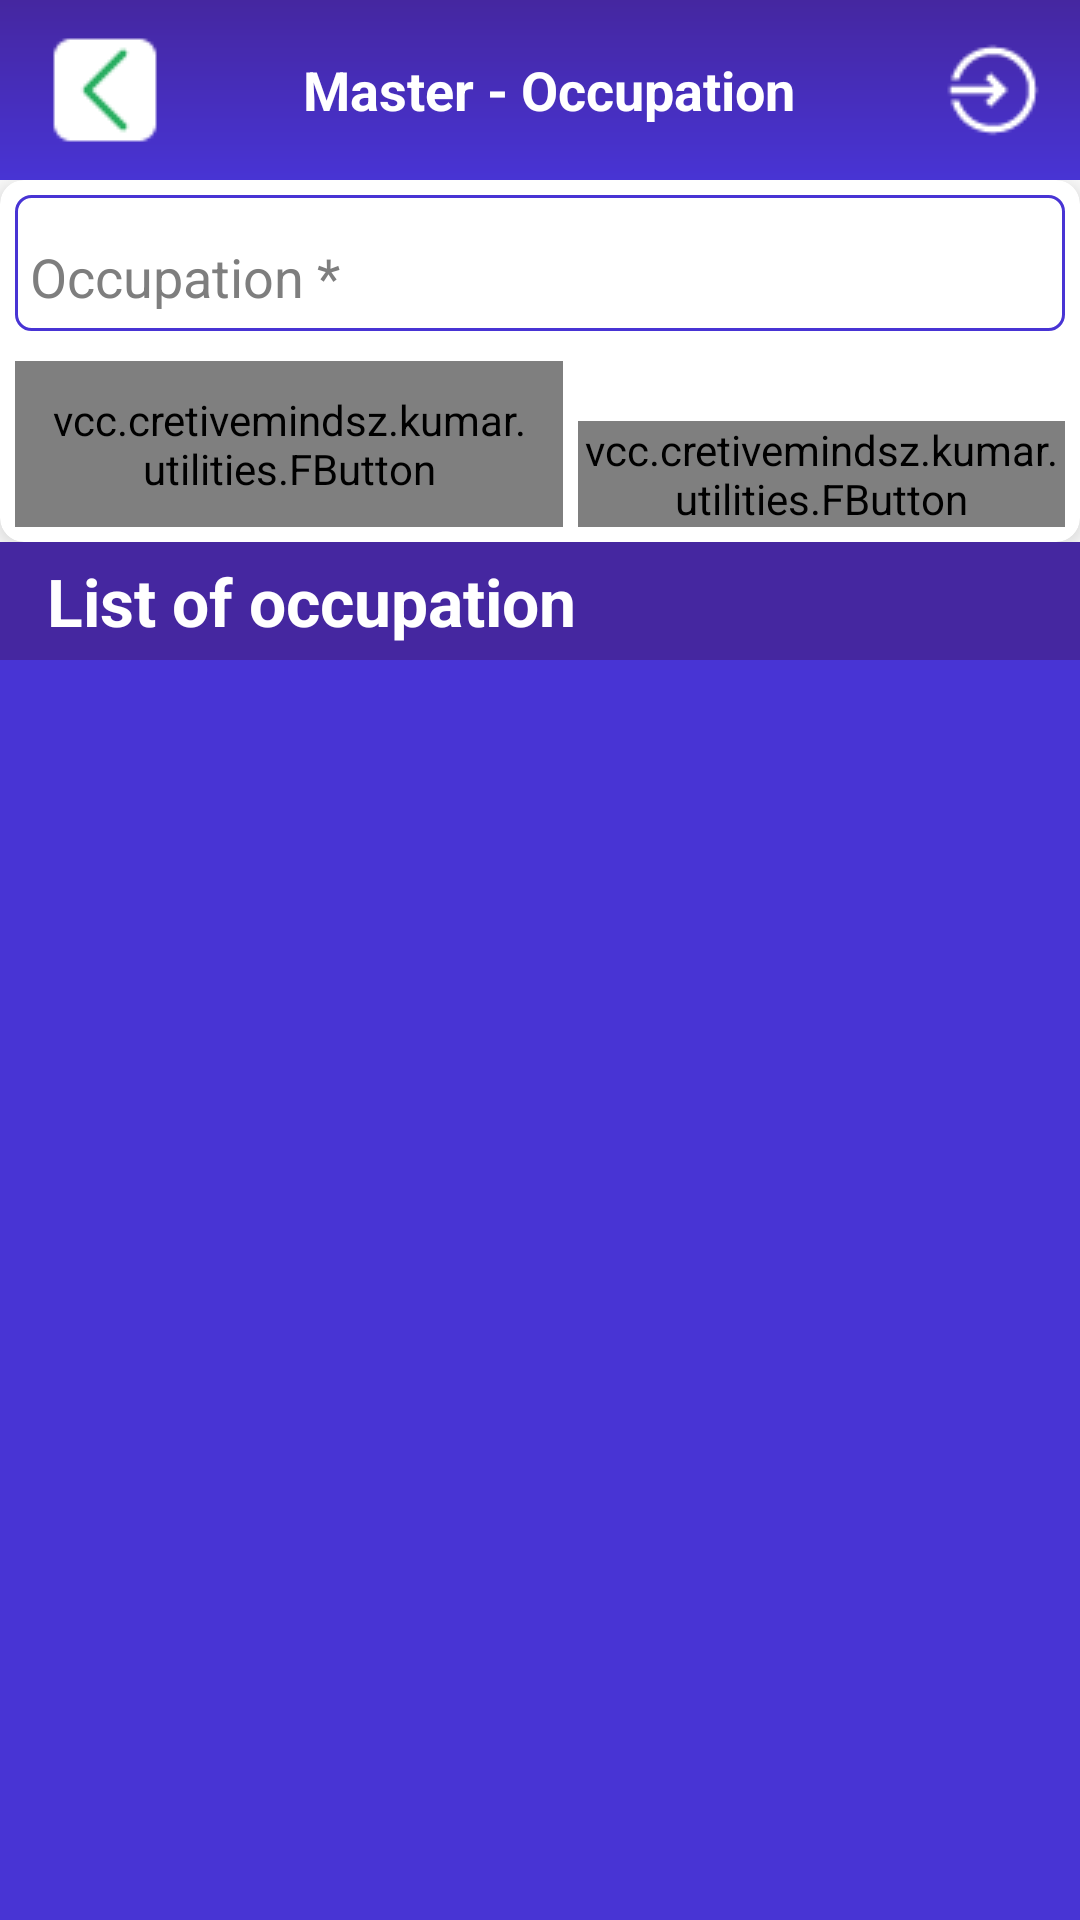

Screen size 1080*1920. Icon name, then its center in pixels as point (x, y):
back: point (105, 92)
exit: point (993, 96)
